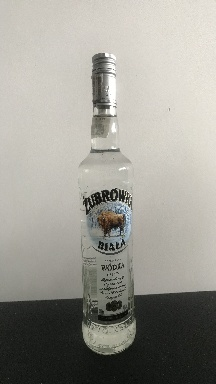butelka: (76, 48, 137, 357)
